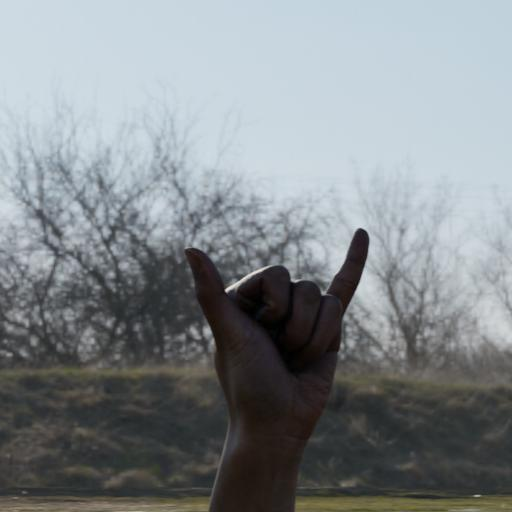Y: (168, 230, 410, 490)
